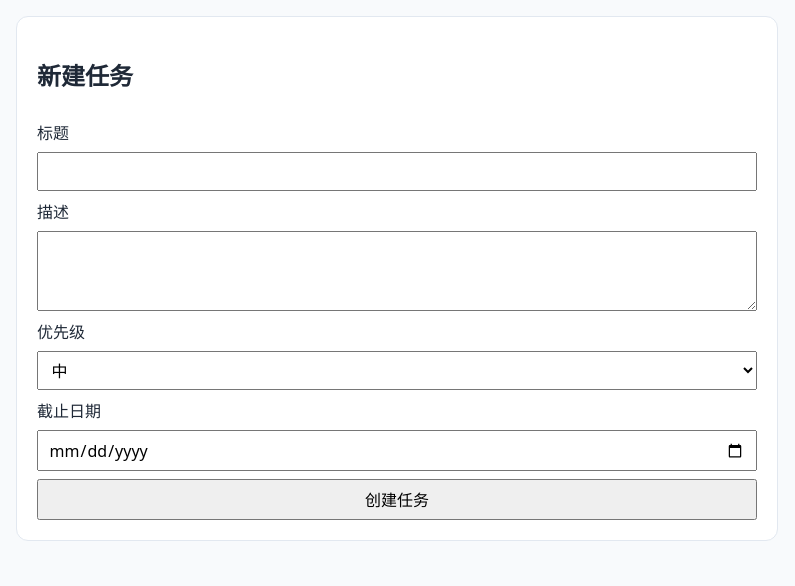
Test: CreateTaskForm：完整链路与错误映射 › 客户端校验不通过时根本不发请求
The width and height of the screenshot is (795, 586).
Click the button "创建任务": [397, 499] box [37,479,757,520]
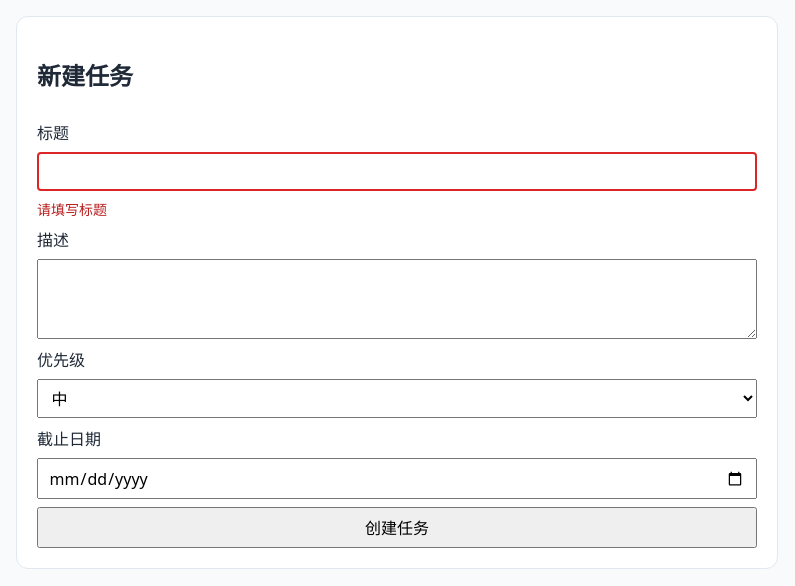
Check: the text "请填写标题" is shown, box [37,200,107,219]
